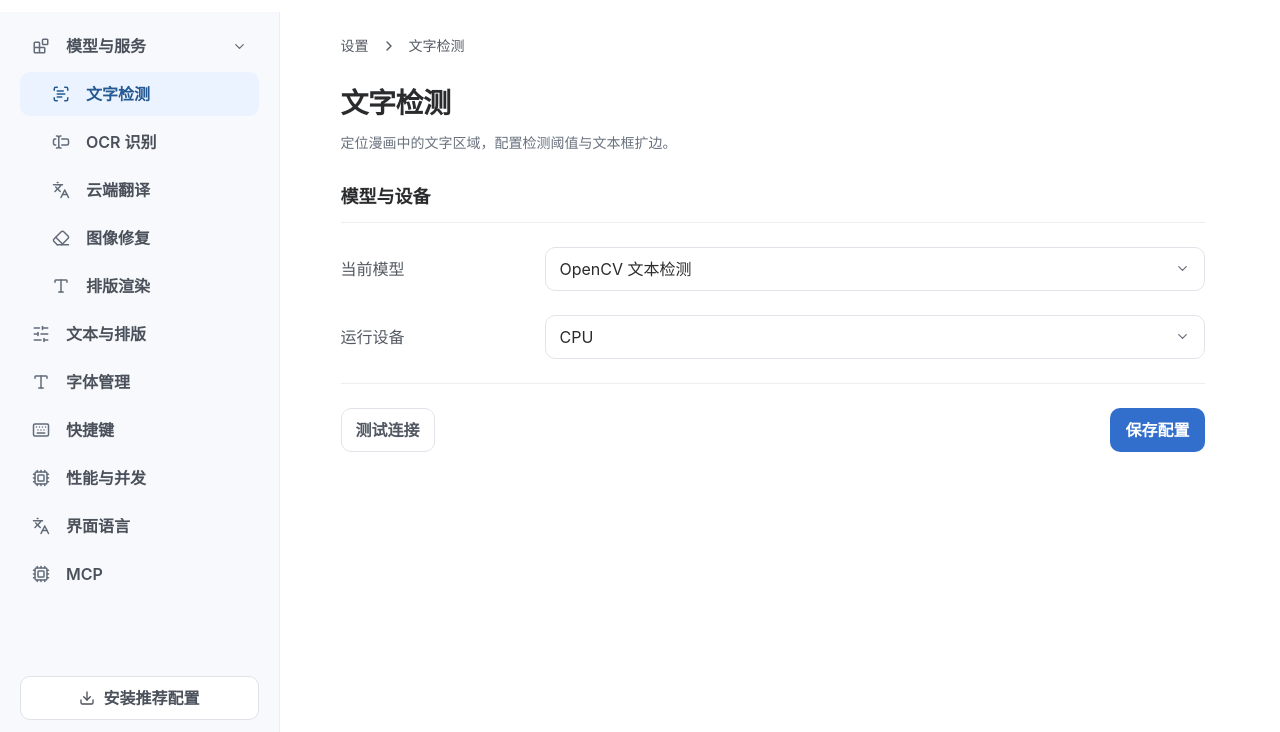
it: service connection tests › tests translation using current settings without saving
Click the button with aria-label "编辑云端翻译配置". click: (140, 190)
box: x1=20 y1=168 x2=259 y2=212
(page scrolled)
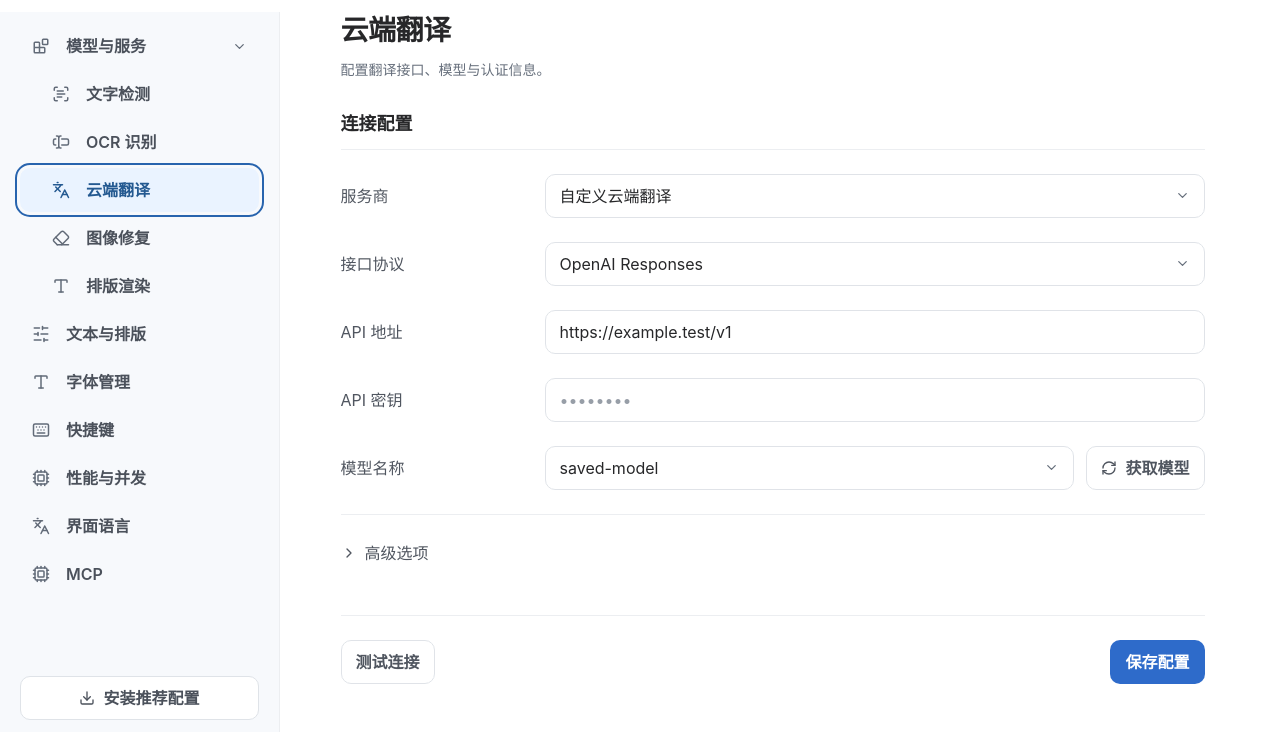
Click the button "测试连接". click: (388, 662)
box: x1=340 y1=640 x2=434 y2=684
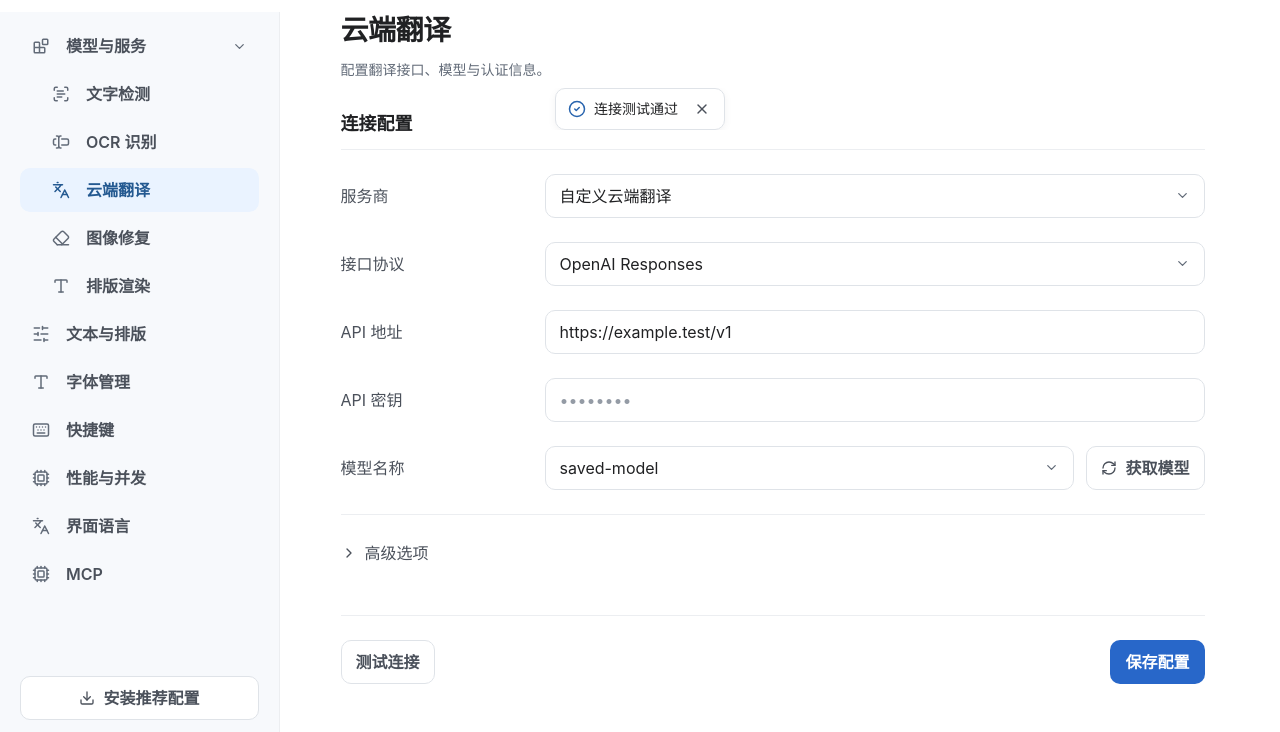
Expected: the text "连接测试通过" is shown, x1=594 y1=95 x2=678 y2=123
Expected: the message named "测试连接" reads "连接测试通过", x1=594 y1=100 x2=678 y2=117
Click the button named "关闭提示". click: (702, 109)
box: x1=686 y1=93 x2=718 y2=125
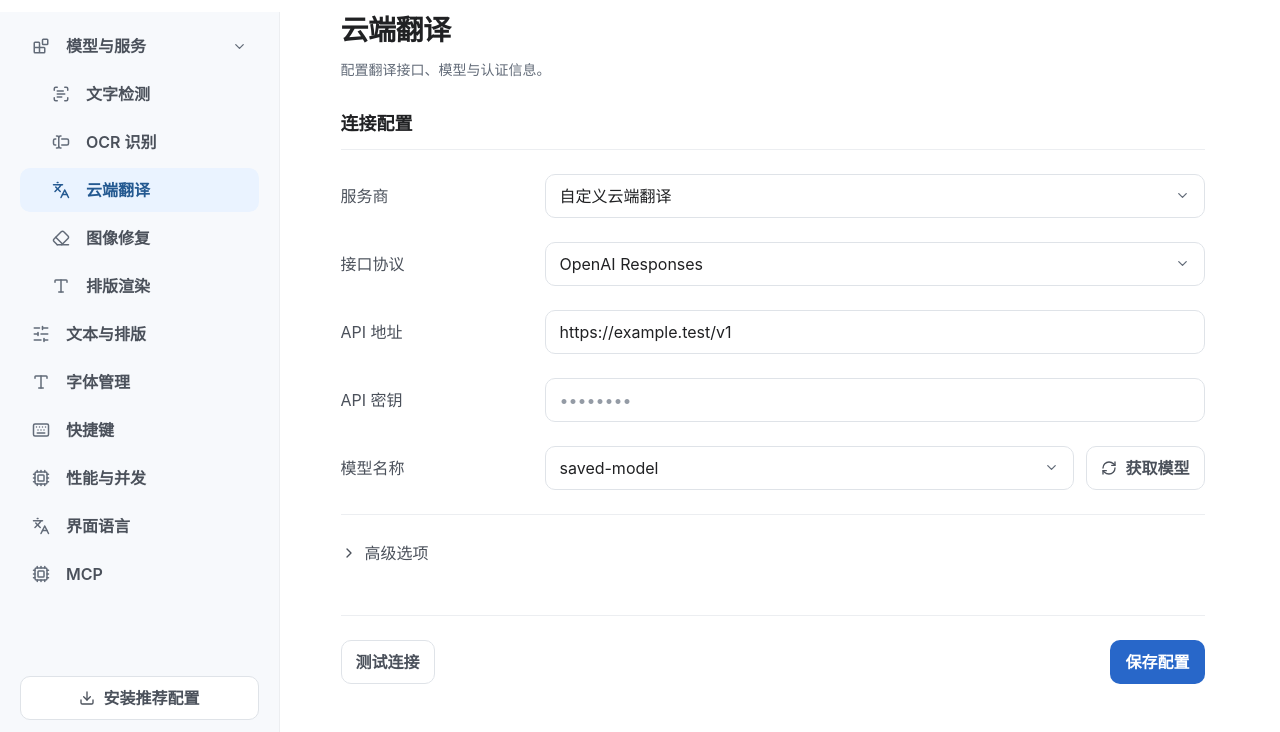
Expected: the text "连接测试通过" is gone
